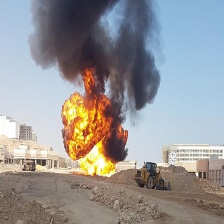fire: (58, 73, 129, 176)
smoke: (27, 1, 165, 109)
